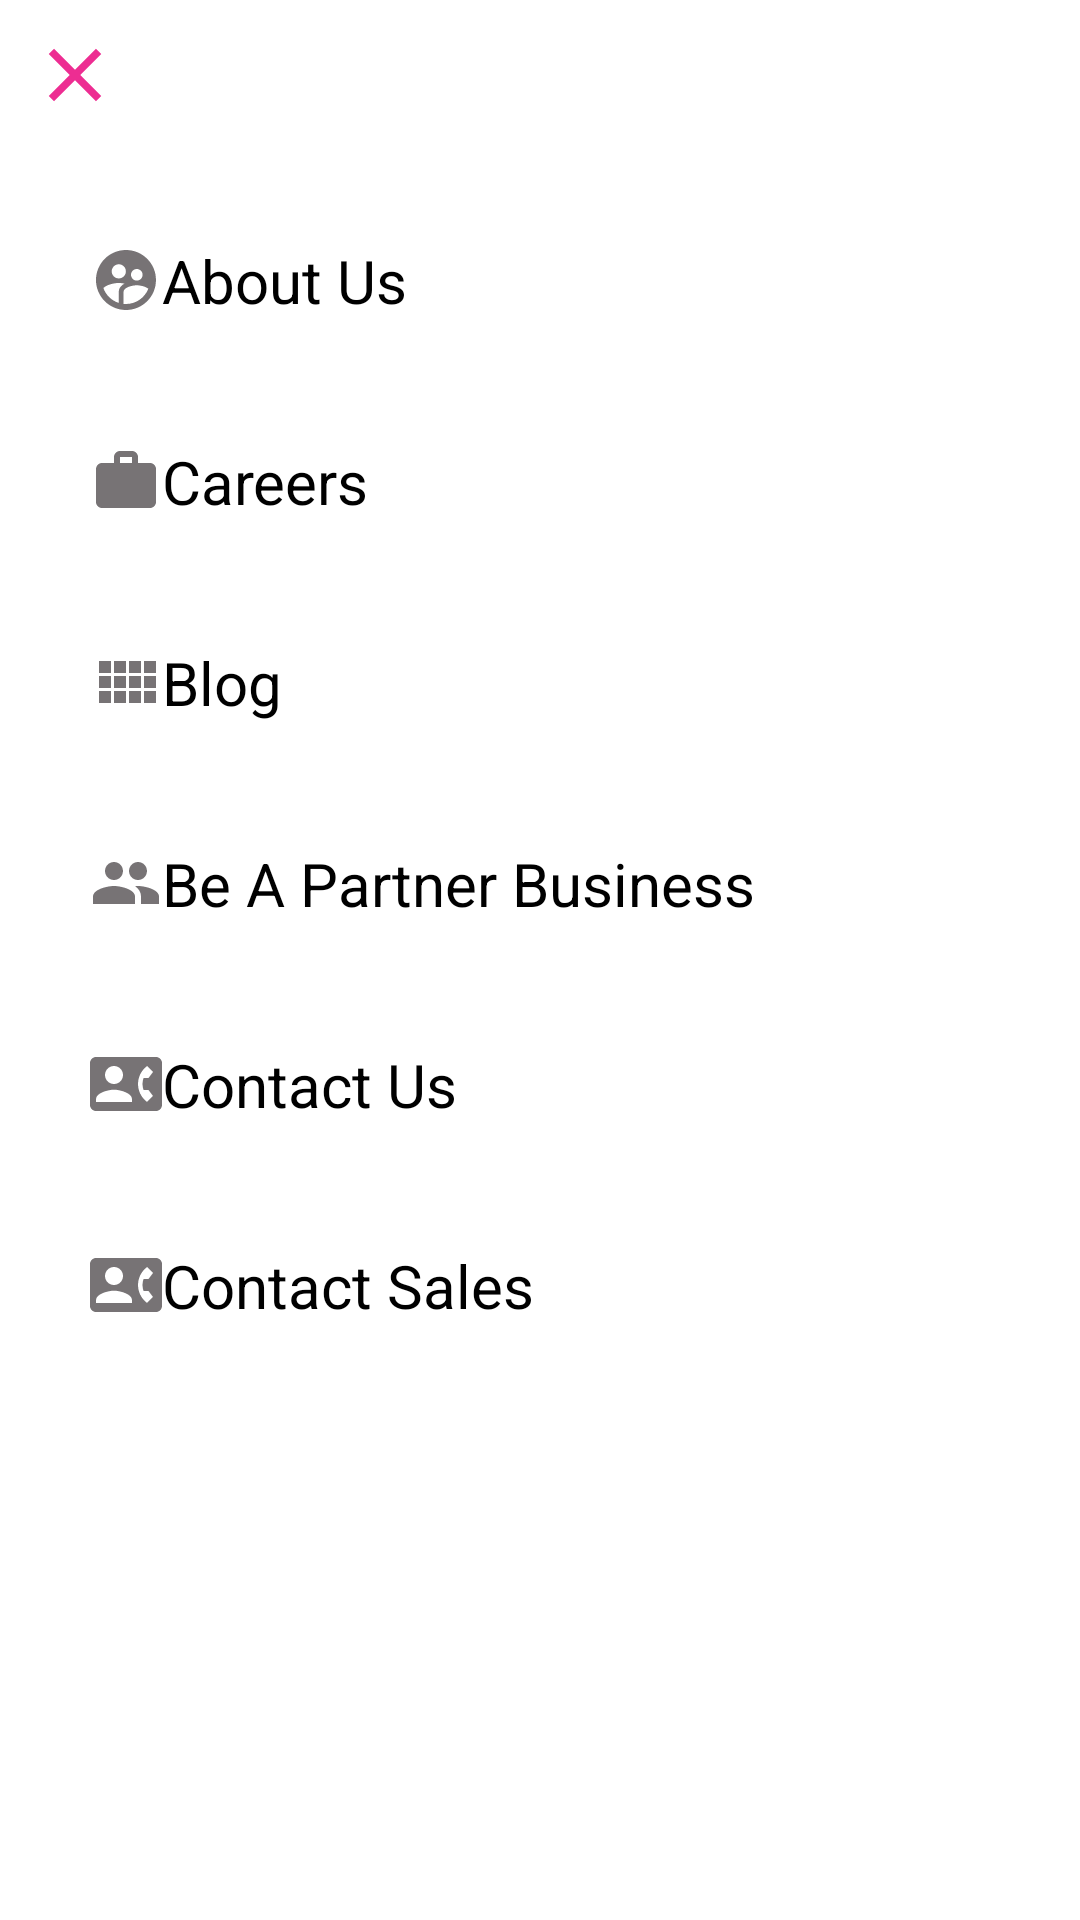

Where icons sit on this 1080 × 1920 app screen, as (x1=x1, y1=y1, x2=x2, y2=y2):
clear: (x1=49, y1=49, x2=101, y2=101)
